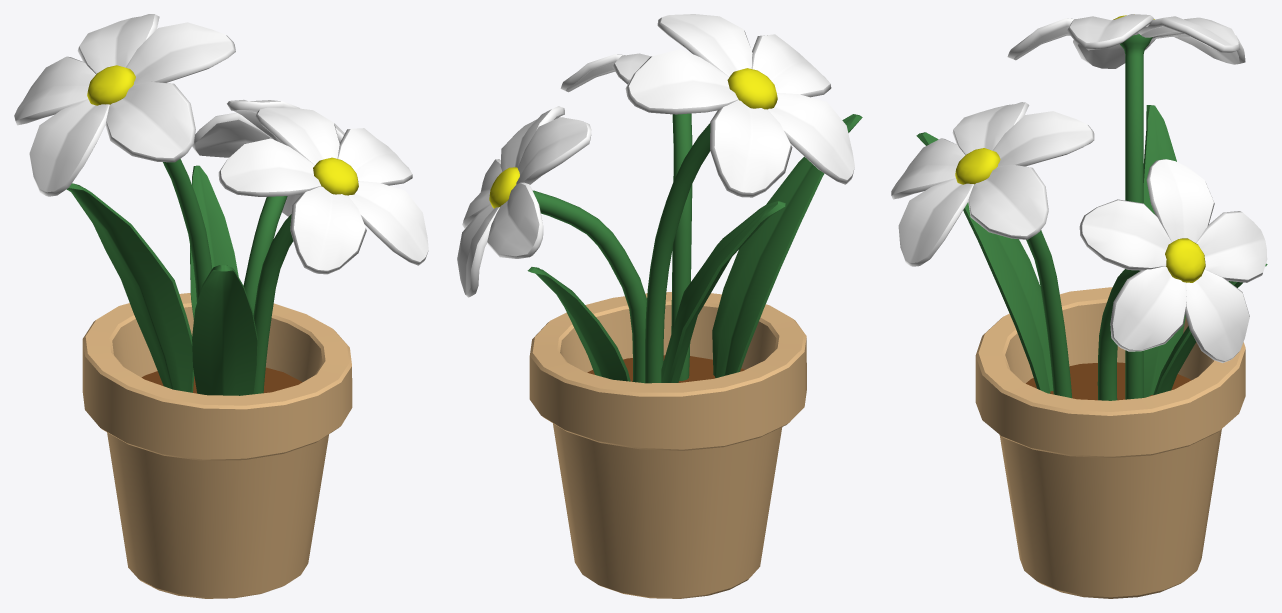
File: Plant_6.fbx
3 views of the same model, side by side, from view 1: azimuth 30°, elevation 25°; view 2: azimuth 150°, elevation 25°; view 3: azimuth 270°, elevation 25° (orthographic). The views are drawn at different scales.
Visible parts, largest first — view 1: Plant_6; view 2: Plant_6; view 3: Plant_6.
Part boxes in pixels (x1=…): Plant_6: x1=14, y1=14, x2=428, y2=598; Plant_6: x1=457, y1=14, x2=862, y2=598; Plant_6: x1=891, y1=14, x2=1267, y2=598.
Bounding box in the file's own units: 0.3561 × 0.5129 × 0.3295.
